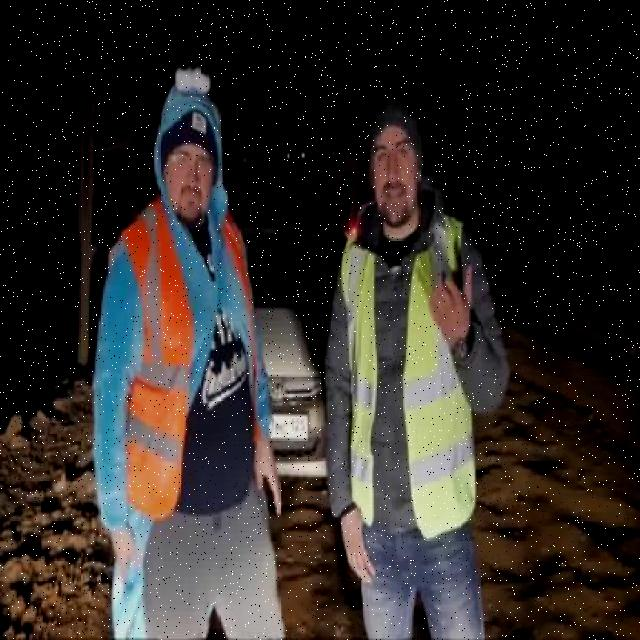Mask: (340, 210, 480, 538), (120, 199, 258, 524)
